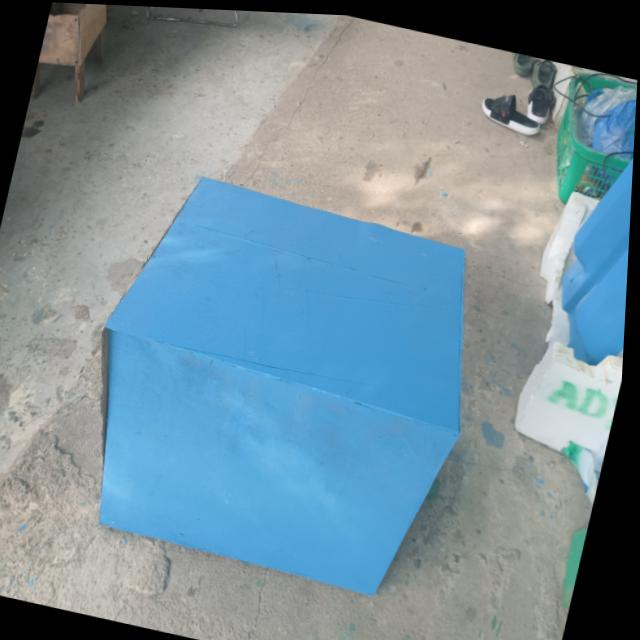blue_box: (51, 148, 522, 606)
